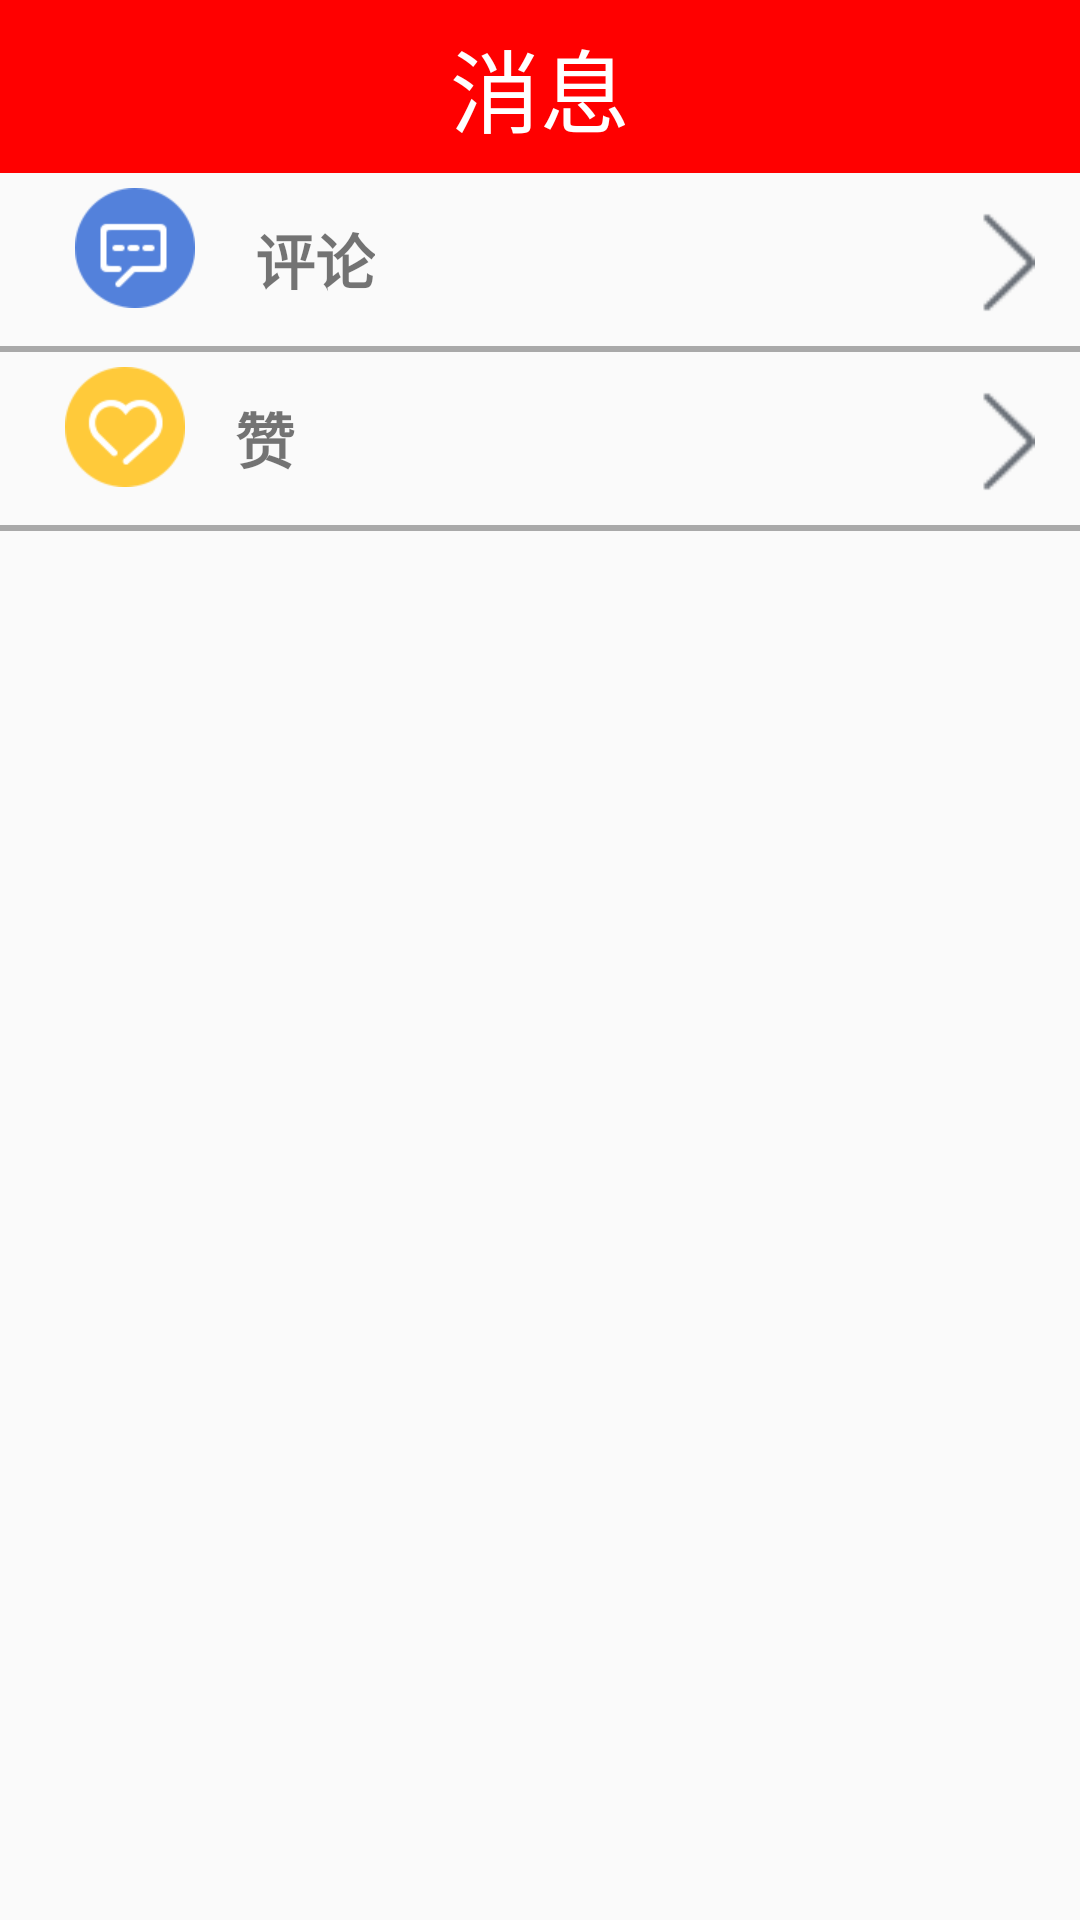

Named icons in this screenshot (1080×1920) and their centers, [x,y]:
message comment: [135,248]
message zan: [125,427]
right arrow: [1009,262], [1009,441]
